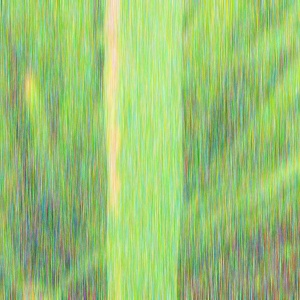Leaf_Blast: (104, 1, 185, 300)
